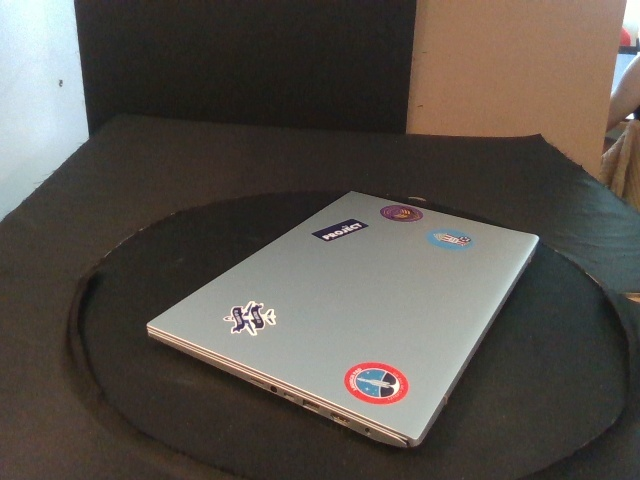laptop: (146, 189, 540, 448)
